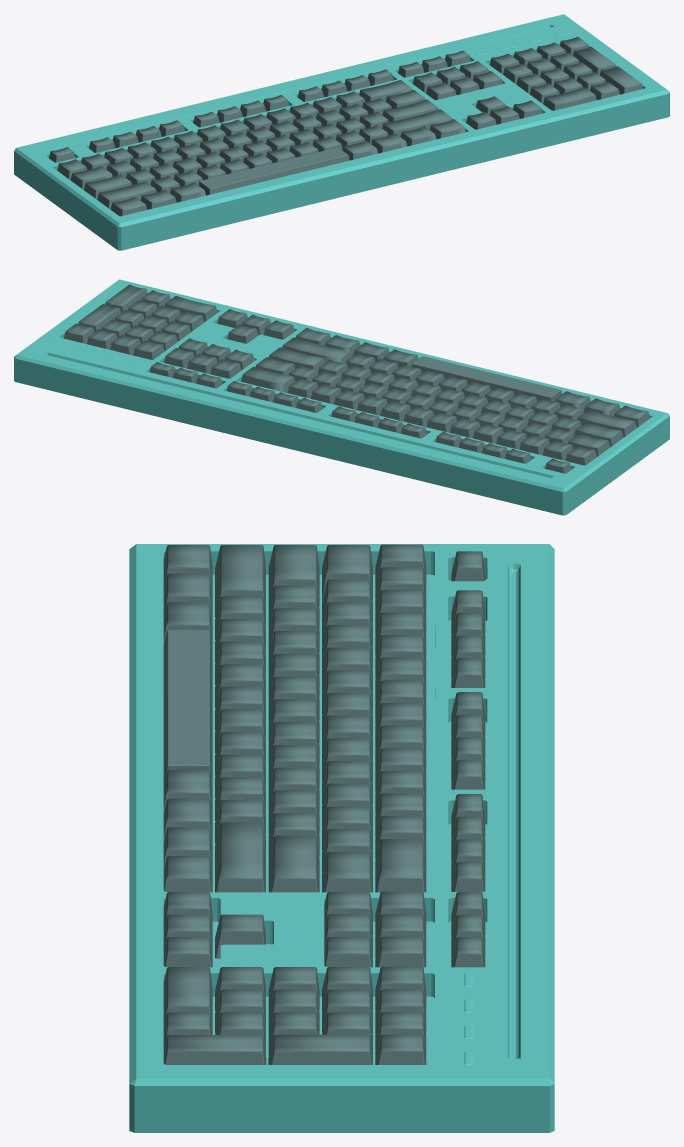
The model's file is Computer_Gen_1_Keyboard.fbx.
The picture shows the model from 3 angles, top to bottom: view 1: azimuth 30°, elevation 25°; view 2: azimuth 150°, elevation 25°; view 3: azimuth 270°, elevation 25°; orthographic projection. The views are drawn at different scales.
Visible parts, largest first — view 1: mesh_keyboard_keys, mesh_keyboard; view 2: mesh_keyboard_keys, mesh_keyboard; view 3: mesh_keyboard_keys, mesh_keyboard.
Part boxes in pixels (box(x1,y1,x2,y2)): mesh_keyboard_keys: box(49, 36, 643, 216); mesh_keyboard: box(14, 14, 669, 250); mesh_keyboard_keys: box(64, 284, 650, 473); mesh_keyboard: box(14, 279, 669, 515); mesh_keyboard_keys: box(163, 544, 485, 1064); mesh_keyboard: box(129, 544, 554, 1132).
Size of the model in its own units: 45 by 2.44 by 15.01.
